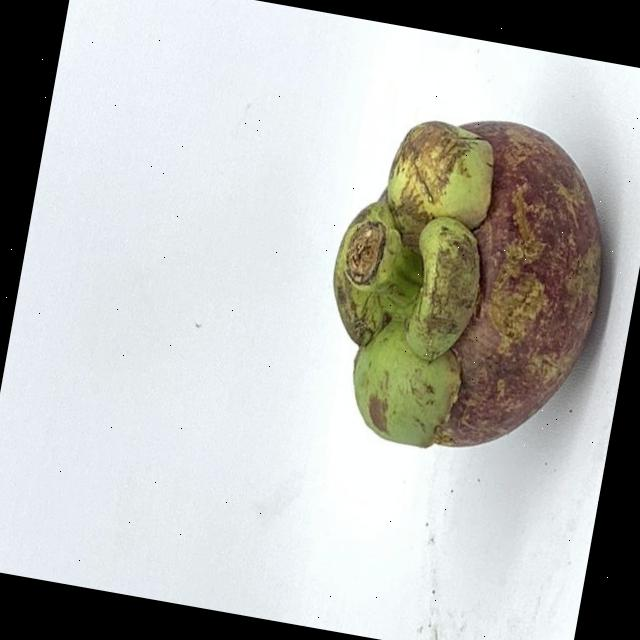mangosteen: (296, 89, 640, 500)
